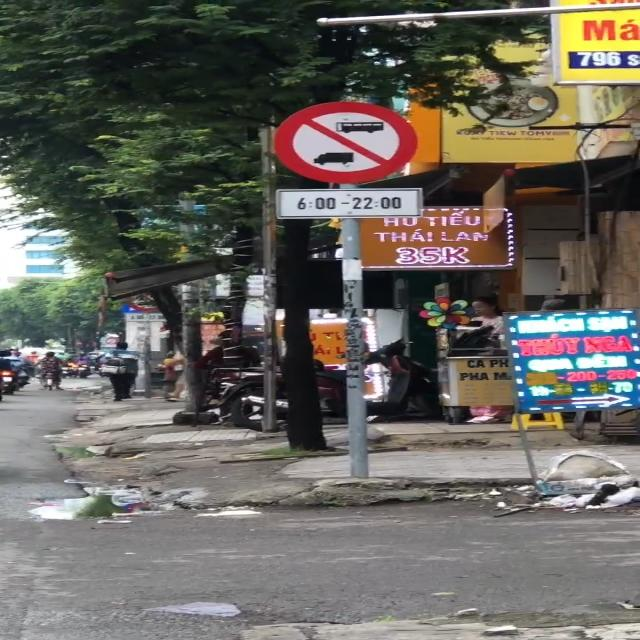Bien bao cam xe oto khach va xe oto tai: (259, 100, 432, 186)
